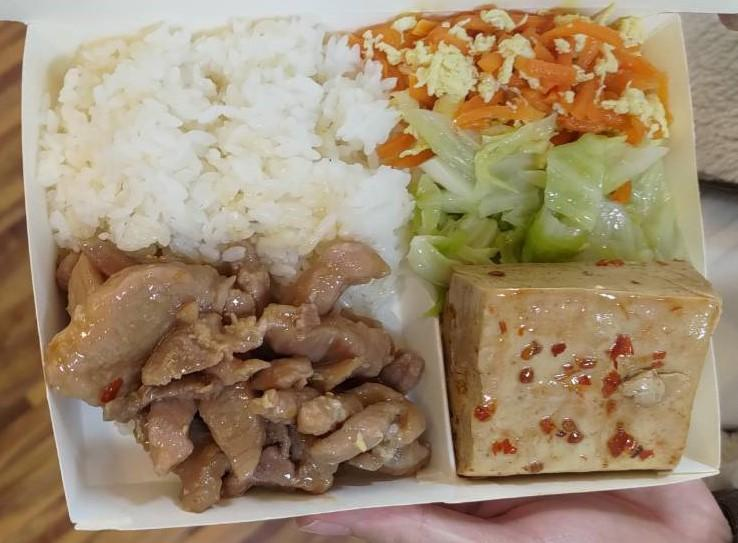big grilled chicken leg: (7, 19, 735, 533)
big herbal chicken leg: (33, 28, 409, 265)
braised fish fillet: (444, 253, 714, 487), (365, 9, 673, 141), (413, 128, 664, 267)
braised pork: (50, 239, 431, 513)
